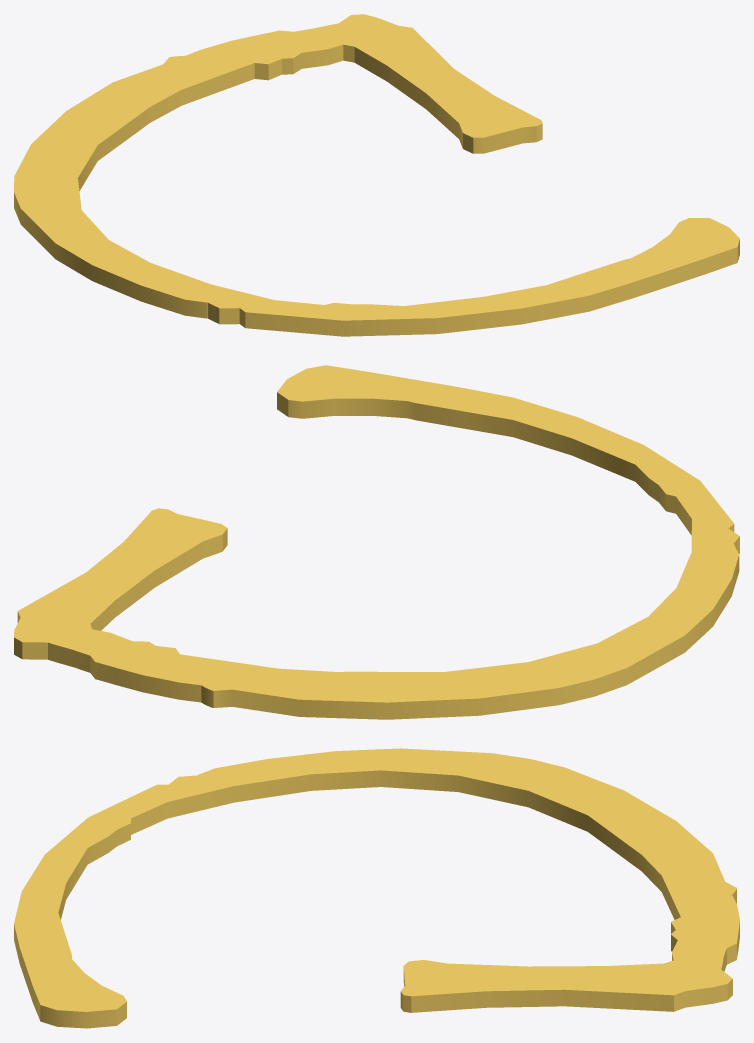
Rendered from original-32.obj.
3 renders of one model, top to bottom at view 1: azimuth 30°, elevation 25°; view 2: azimuth 150°, elevation 25°; view 3: azimuth 270°, elevation 25°, orthographic. The views are drawn at different scales.
Parts seen in each view (by area): view 1: mesh1/mesh1-geometry#mesh1-geometry; view 2: mesh1/mesh1-geometry#mesh1-geometry; view 3: mesh1/mesh1-geometry#mesh1-geometry.
Part boxes in pixels (x1,y1,x2,y2): mesh1/mesh1-geometry#mesh1-geometry: (14, 14, 739, 336); mesh1/mesh1-geometry#mesh1-geometry: (14, 365, 739, 719); mesh1/mesh1-geometry#mesh1-geometry: (14, 748, 739, 1028).
Size of the model in its own units: 0.0154 by 0.000452 by 0.0179.
